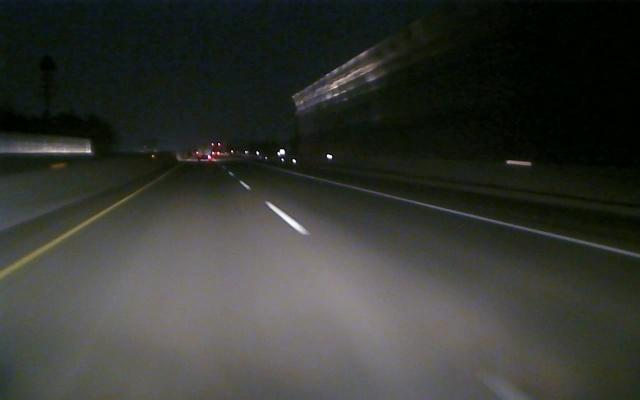lane: (331, 181, 638, 259), (3, 188, 143, 276), (239, 180, 309, 236)
